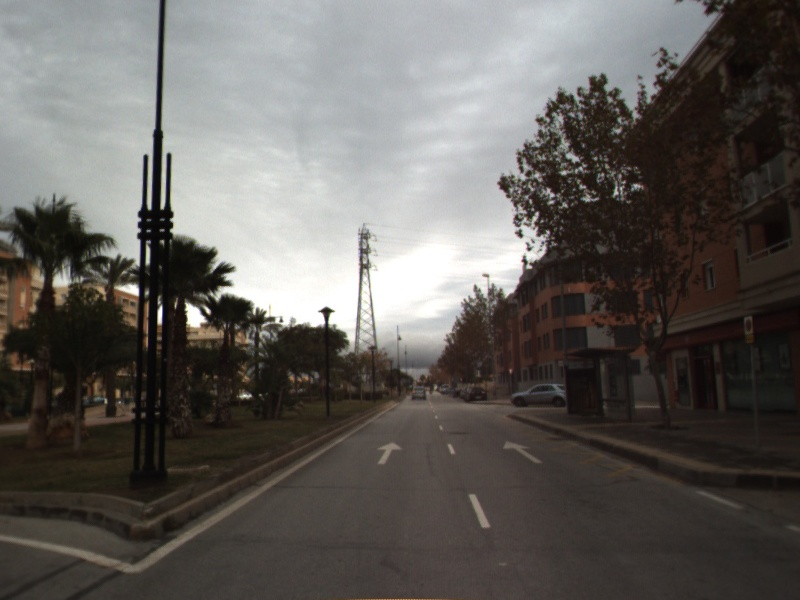STRAIGHT: (501, 438, 545, 465), (375, 440, 405, 466)
